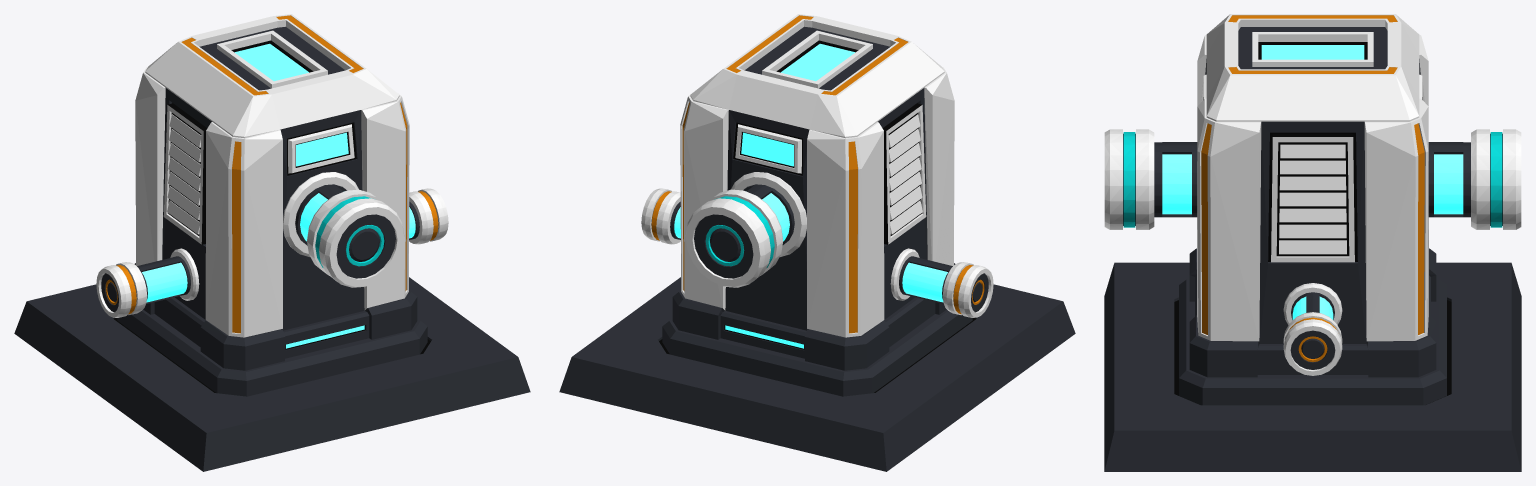
The model's file is SM_Transformer.fbx.
3 views of the same model, side by side, from view 1: azimuth 30°, elevation 25°; view 2: azimuth 150°, elevation 25°; view 3: azimuth 270°, elevation 25° (orthographic). The views are drawn at different scales.
Visible parts, largest first — view 1: SM_Transformer; view 2: SM_Transformer; view 3: SM_Transformer.
Part boxes in pixels (bbox=[...]): SM_Transformer: bbox=[14, 14, 530, 471]; SM_Transformer: bbox=[559, 14, 1075, 471]; SM_Transformer: bbox=[1104, 14, 1521, 471].
Size of the model in its own units: 100 by 89.78 by 100.
